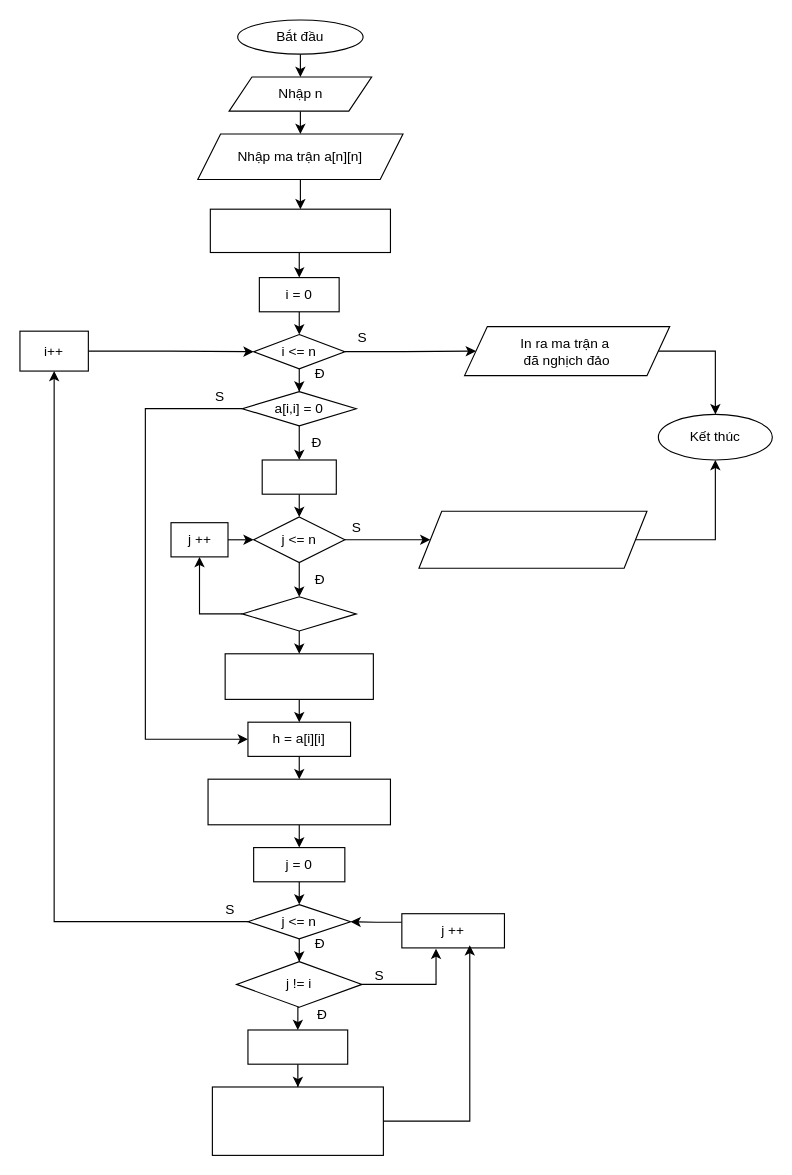
Some shapes in this 792 by 1175 pixel diagram are drawn without their labels. Each missing label, with the centre of its shape:
"a[i][j] /= h; inv[i][j] /= h (j=1..n)" belongs at (x=298, y=801).
"a[j,i] = 0" belongs at (x=298, y=613).
"a[j][k] -= m * a[i][k]; inv[j][k] -= m * inv[i][k]; ( k = 0...n)" belongs at (x=297, y=1120).
"doiHang(a, i, j, n); doiHang(inv, i, j, n);" belongs at (x=298, y=676).
"j = i + 1" belongs at (x=298, y=476).
"m = a[j][i];" belongs at (x=297, y=1046).
"Ma trận không khả nghịch" belongs at (x=532, y=539).
"ma_tran_don_vi(inv, n)" belongs at (x=299, y=230).
